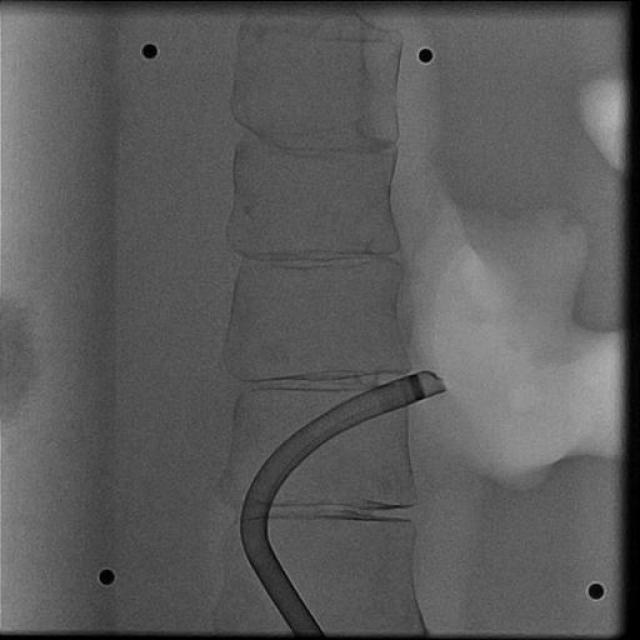bend: (242, 532, 270, 547)
entry: (292, 630, 322, 636)
marker: (407, 372, 425, 402)
tip: (428, 370, 447, 394)
